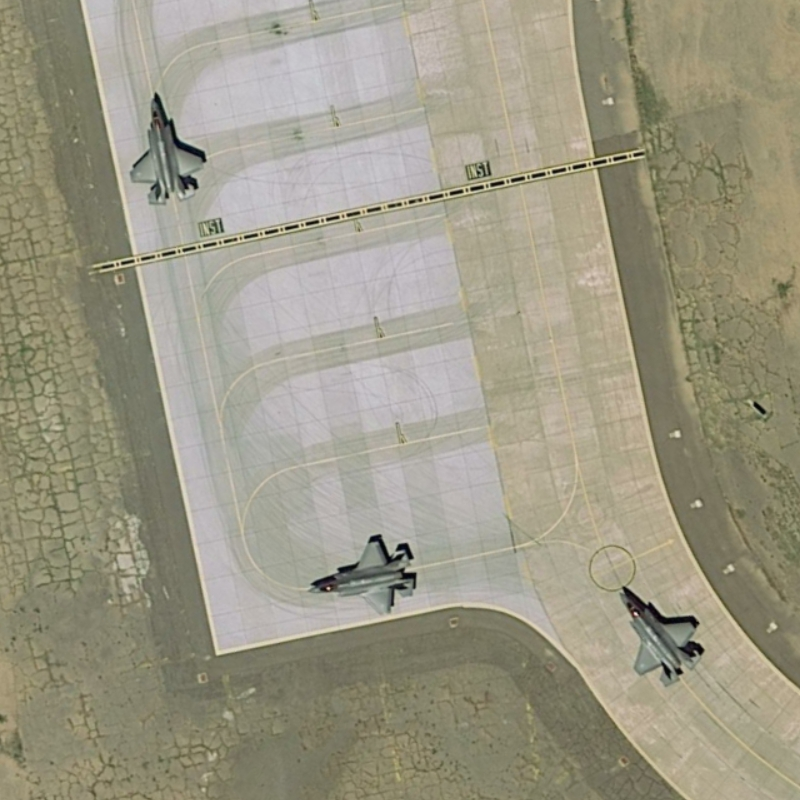A15: (293, 528, 423, 620), (120, 87, 215, 211), (615, 579, 710, 691)
